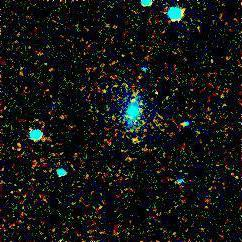star: (118, 84, 148, 114)
